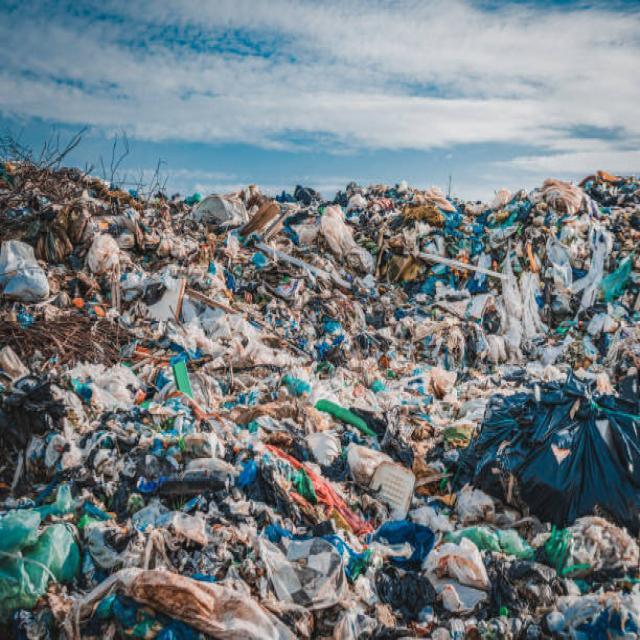plastic: (88, 219, 564, 577)
